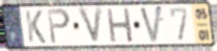7: (168, 7, 190, 43)
H: (105, 7, 135, 44)
K: (24, 9, 48, 45)
P: (46, 7, 72, 46)
V: (76, 5, 105, 47), (138, 4, 164, 46)
